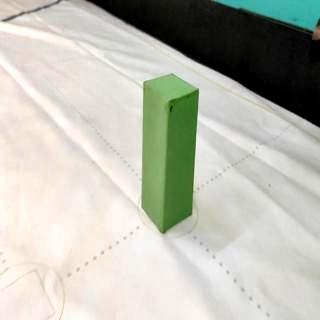greenbox: (140, 72, 199, 235)
